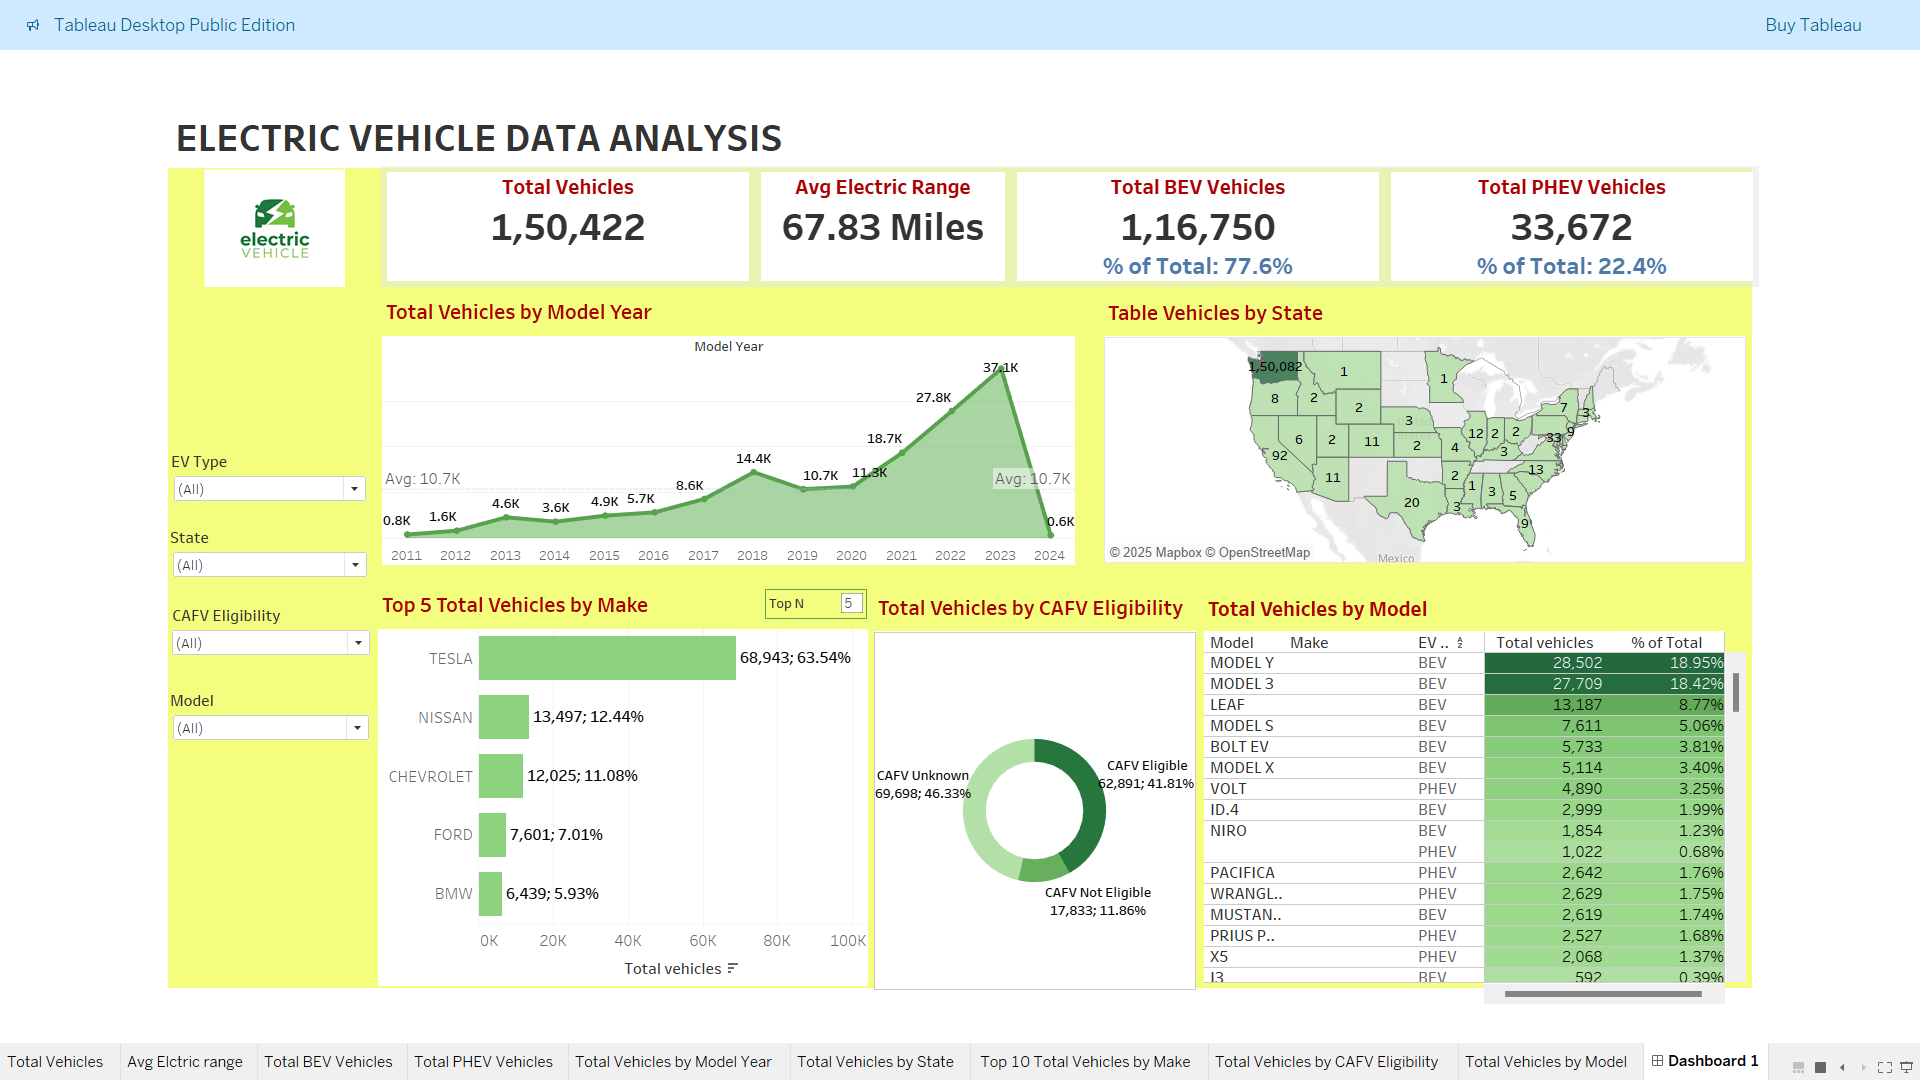

Layout of this report page (visuals, bound fields, positions):
{"tool":"tableau","page":{"name":"Dashboard 1","canvas":[1600,900],"ordinal":0},"visuals":[{"type":"title","box":[8,8,1584,64]},{"type":"worksheet","title":"Total Vehicles ","mark":"Automatic","box":[221,70,374,121]},{"type":"worksheet","title":"Avg Elctric range","mark":"Automatic","box":[595,70,256,121]},{"type":"worksheet","title":"Total BEV Vehicles","mark":"Automatic","box":[851,70,374,121]},{"type":"worksheet","title":"Total PHEV Vehicles","mark":"Automatic","box":[1225,70,374,121]},{"type":"blank","box":[11,72,205,144]},{"type":"image","param":"Image/electric-vehicle-charging-station-logo-electric-car-icon-logo-design-vecto","box":[31,73,167,118]},{"type":"worksheet","title":"Total Vehicles by Model Year","mark":"Area","rows":["Calculation_215046927377039360","Calculation_215046927377039360"],"cols":["Model Year"],"box":[222,197,693,272]},{"type":"worksheet","title":"Total Vehicles by State","mark":"Multipolygon","box":[944,198,642,269]},{"type":"filter","title":" Top 10 Total Vehicles by Make","param":"[federated.06dxu8j0fxjjli15hwvwo0yxyglr].[none:Electric Vehicle Type:nk]","box":[11,355,198,58]},{"type":"filter","title":" Top 10 Total Vehicles by Make","param":"[federated.06dxu8j0fxjjli15hwvwo0yxyglr].[none:State:nk]","box":[10,431,200,63]},{"type":"blank","box":[9,449,203,79]},{"type":"worksheet","title":" Top 10 Total Vehicles by Make","mark":"Automatic","rows":["Make"],"cols":["Calculation_215046927377039360"],"box":[218,490,490,400]},{"type":"parameter","param":"[Parameters].[Parameter 1]","box":[605,493,102,30]},{"type":"worksheet","title":"Total Vehicles by CAFV Eligibility","mark":"Pie","rows":["Calculation_215046927427911692","Calculation_215046927427911692"],"box":[714,493,322,401]},{"type":"filter","title":"Total Vehicles by Model Year","param":"[federated.06dxu8j0fxjjli15hwvwo0yxyglr].[none:Clean Alternative Fuel Vehicle (C","box":[9,509,204,78]},{"type":"filter","title":"Total Vehicles by Model Year","param":"[federated.06dxu8j0fxjjli15hwvwo0yxyglr].[none:Model:nk]","box":[10,594,202,83]}]}

Visuals, with their boxes on the page's 1600x900 design canvas (x1, y1, x2, y2). These are canvas units, not pixel positions in the 1920x1080 screenshot, which may show the page scaled, cropped or inside an application window:
title: rect(8, 8, 1592, 72)
"Total Vehicles " worksheet: rect(221, 70, 595, 191)
"Avg Elctric range" worksheet: rect(595, 70, 851, 191)
"Total BEV Vehicles" worksheet: rect(851, 70, 1225, 191)
"Total PHEV Vehicles" worksheet: rect(1225, 70, 1599, 191)
blank: rect(11, 72, 216, 216)
image: rect(31, 73, 198, 191)
"Total Vehicles by Model Year" worksheet (Area marks): rect(222, 197, 915, 469)
"Total Vehicles by State" worksheet (Multipolygon marks): rect(944, 198, 1586, 467)
" Top 10 Total Vehicles by Make" filter: rect(11, 355, 209, 413)
" Top 10 Total Vehicles by Make" filter: rect(10, 431, 210, 494)
blank: rect(9, 449, 212, 528)
" Top 10 Total Vehicles by Make" worksheet: rect(218, 490, 708, 890)
parameter: rect(605, 493, 707, 523)
"Total Vehicles by CAFV Eligibility" worksheet (Pie marks): rect(714, 493, 1036, 894)
"Total Vehicles by Model Year" filter: rect(9, 509, 213, 587)
"Total Vehicles by Model Year" filter: rect(10, 594, 212, 677)
